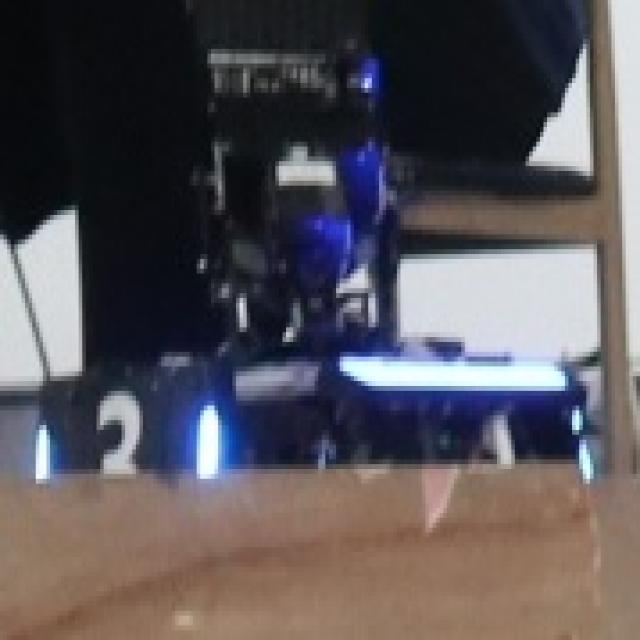B3: (28, 381, 228, 518)
